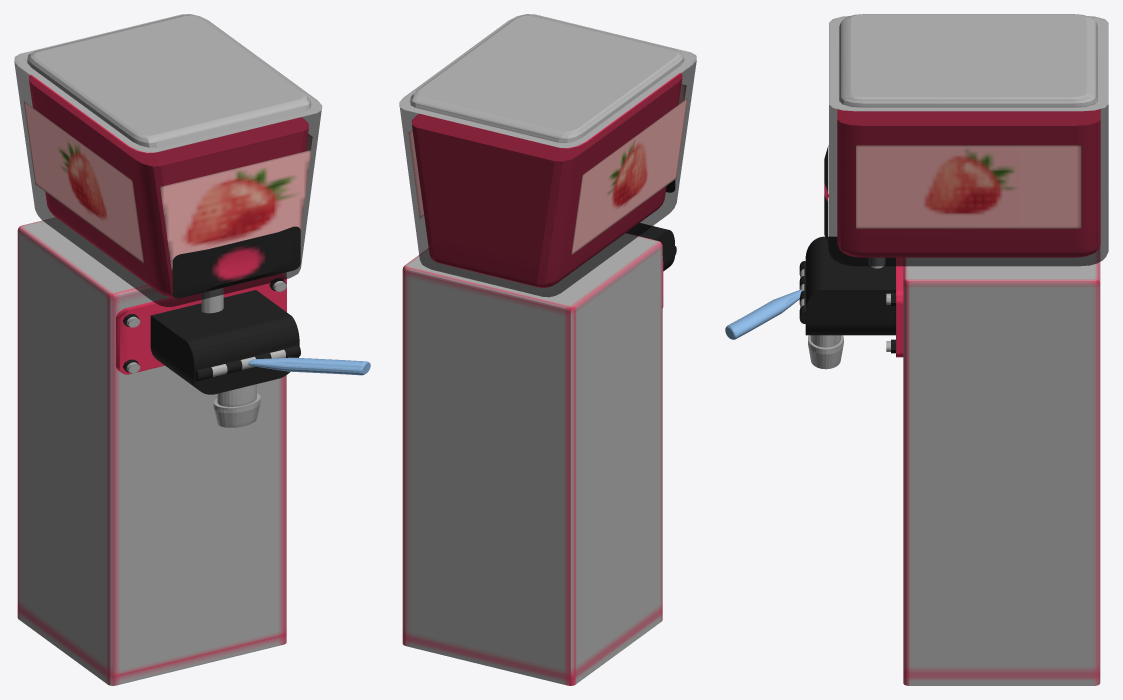
File: Strawberry_new4.fbx
3 renders of one model, left to right at view 1: azimuth 30°, elevation 25°; view 2: azimuth 150°, elevation 25°; view 3: azimuth 270°, elevation 25°, orthographic. The views are drawn at different scales.
Parts seen in each view (by area): view 1: stage1_strawberry4, stage1_strawberry1, stage1_strawberry3, stage1_strawberry_handle; view 2: stage1_strawberry4, stage1_strawberry1, stage1_strawberry3; view 3: stage1_strawberry4, stage1_strawberry1, stage1_strawberry3, stage1_strawberry_handle.
Part boxes in pixels (bbox=[...]): stage1_strawberry4: bbox=[15, 14, 322, 685]; stage1_strawberry1: bbox=[14, 54, 321, 306]; stage1_strawberry3: bbox=[29, 74, 308, 297]; stage1_strawberry_handle: bbox=[248, 357, 370, 375]; stage1_strawberry4: bbox=[399, 14, 695, 685]; stage1_strawberry1: bbox=[400, 52, 696, 297]; stage1_strawberry3: bbox=[411, 73, 682, 287]; stage1_strawberry4: bbox=[799, 14, 1108, 685]; stage1_strawberry1: bbox=[829, 16, 1108, 266]; stage1_strawberry3: bbox=[837, 109, 1100, 257]; stage1_strawberry_handle: bbox=[725, 289, 801, 339].
Bounding box in the file's own units: 82.99 × 237 × 140.
